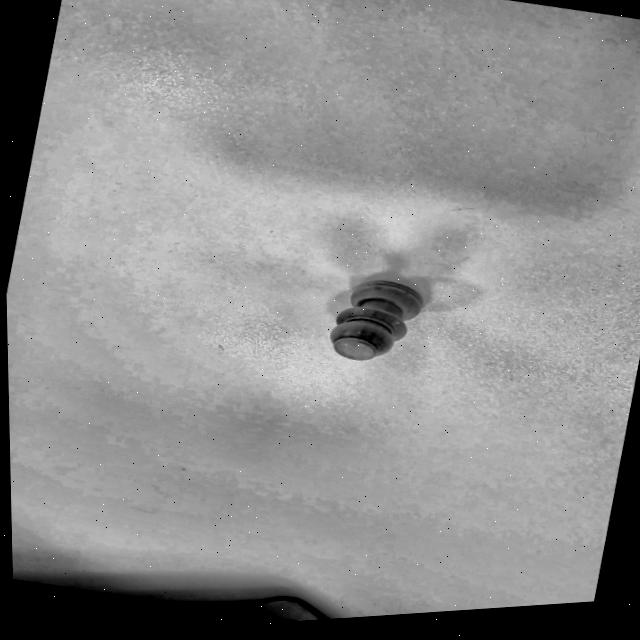white-bishop: (329, 279, 422, 359)
